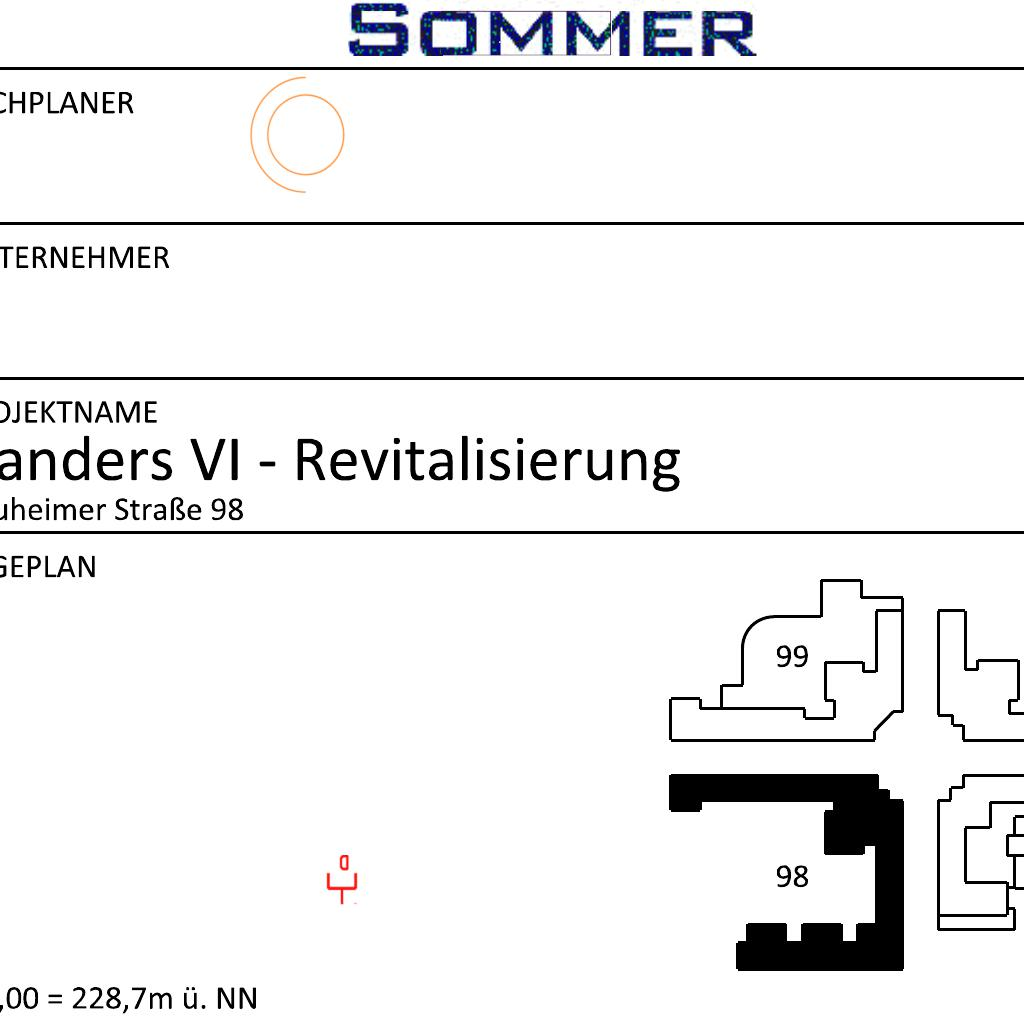Datenanschluss_einfach: (325, 855, 359, 905)
Scheinwerfer_fuer_Alarmbeleuchtung: (245, 72, 357, 204)
